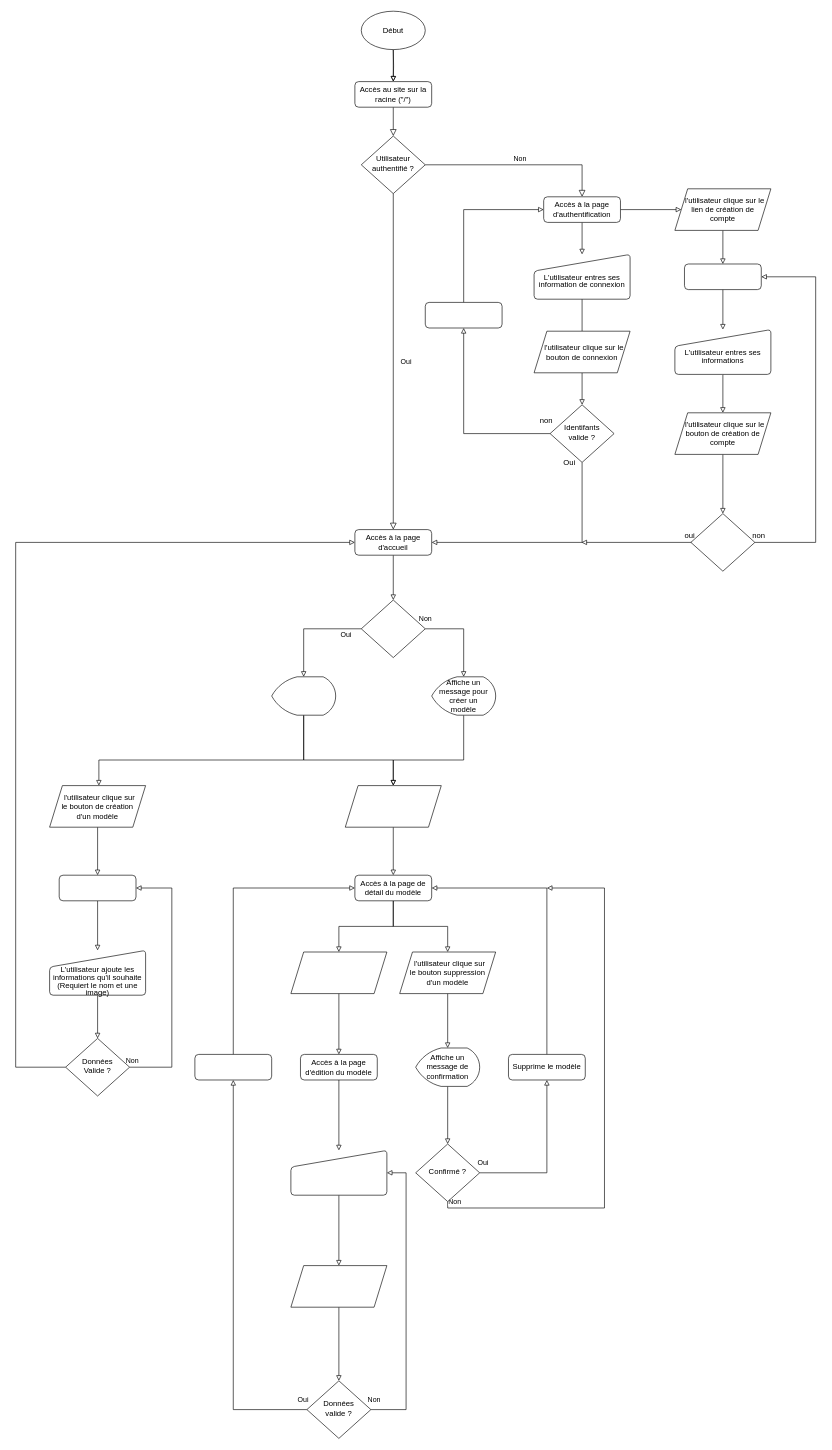
The diagram is 832 pixels wide and 1450 high, and some of its shapes have lost their labels. Here are the shapes that lost their labels. From the top down, the centre of each, then its label:
point 722,276: Accès à la page de création de compte
point 463,315: Suppression du mot de passe
point 722,542: Informations valide?
point 393,628: L'utilisateur possède au minimum un modèle ?
point 303,695: Affiche les modèles de l'utilisateur
point 393,806: l'utilisateur clique sur un modèle
point 97,888: Accès à la page de création d'un modèle
point 338,972: l'utilisateur clique sur le bouton edition d'un modèle
point 233,1067: Sauvegarde les changements
point 338,1172: L'utilisateur changes les informations qu'il souhaite
point 338,1286: l'utilisateur clique sur le bouton sauvegarder
